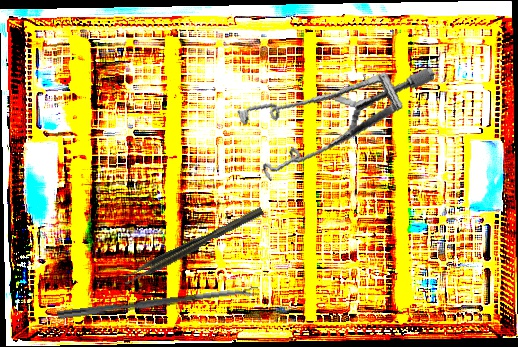Speculum: (225, 33, 436, 208)
Surgical Spoon: (57, 286, 259, 321)
Tissue Forceps: (120, 206, 267, 287)
